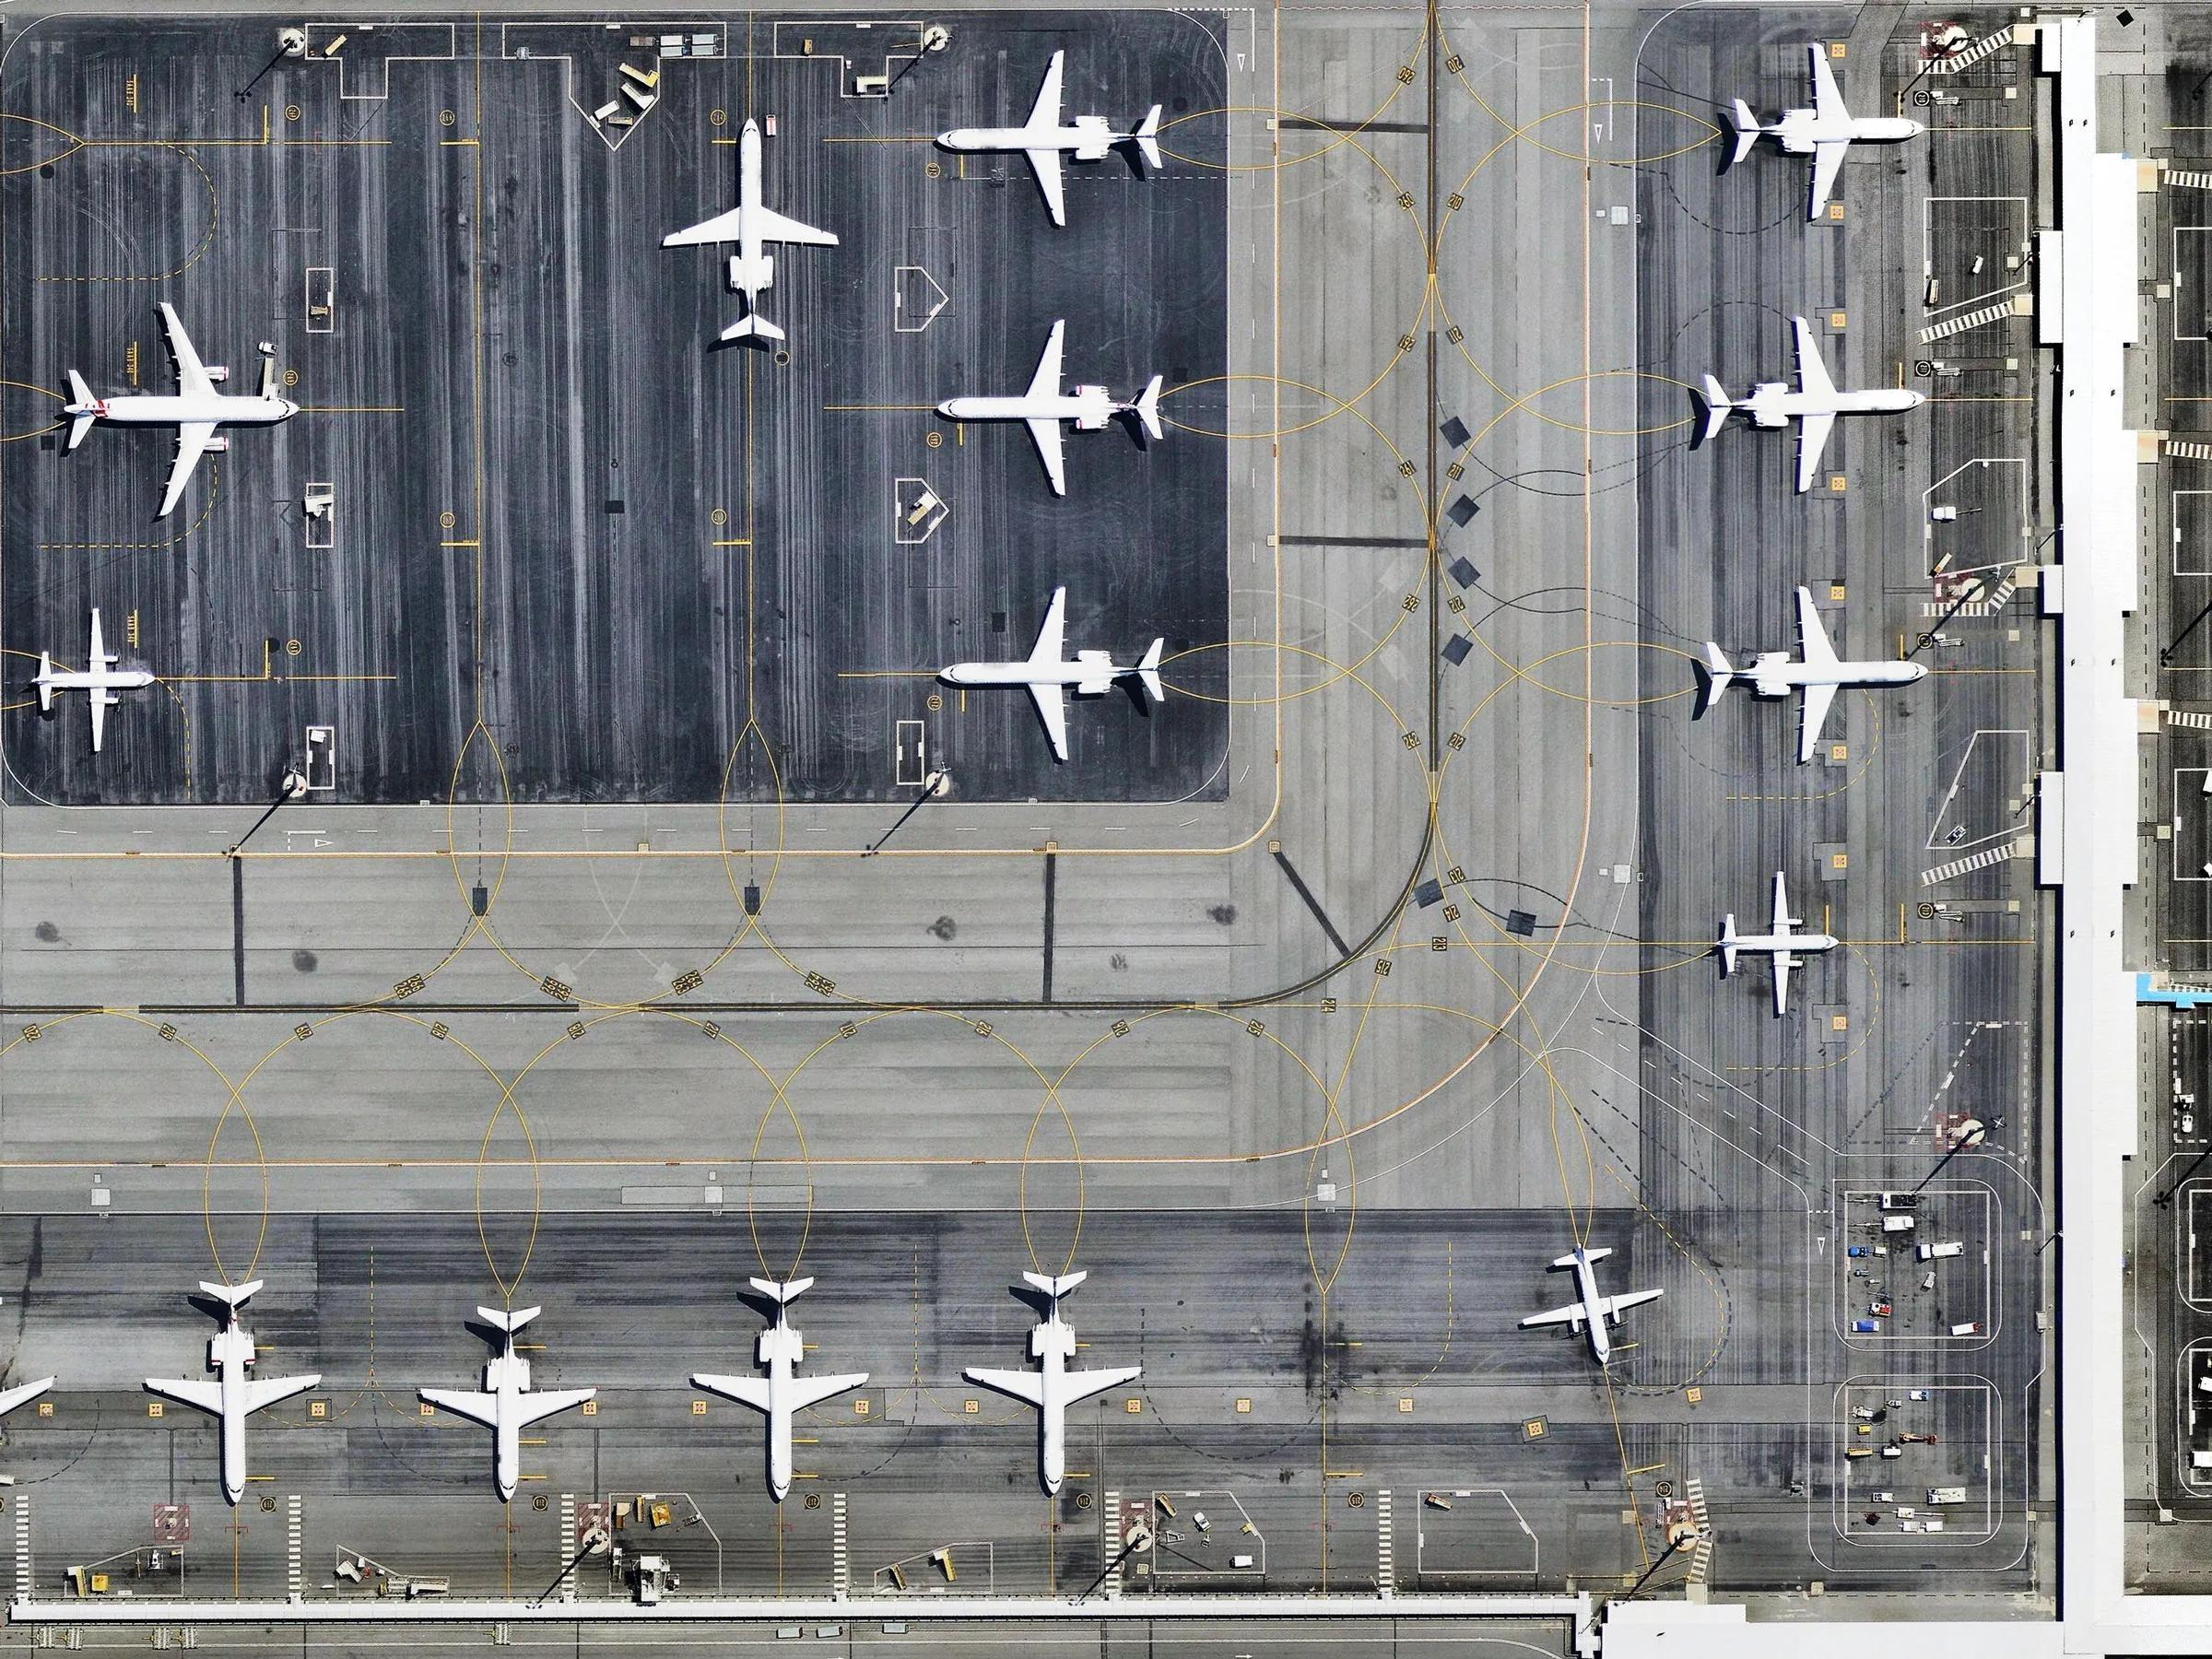Airplane: (59, 300, 308, 523), (1698, 308, 1932, 498), (928, 47, 1170, 230), (930, 580, 1172, 763), (928, 317, 1169, 498), (658, 115, 845, 347), (141, 1276, 327, 1507), (1700, 580, 1932, 767), (690, 1272, 876, 1502), (961, 1267, 1144, 1500), (1724, 38, 1930, 227), (418, 1302, 603, 1502), (28, 608, 160, 755), (1712, 868, 1843, 1016), (1519, 1239, 1665, 1368), (0, 1371, 56, 1420)
